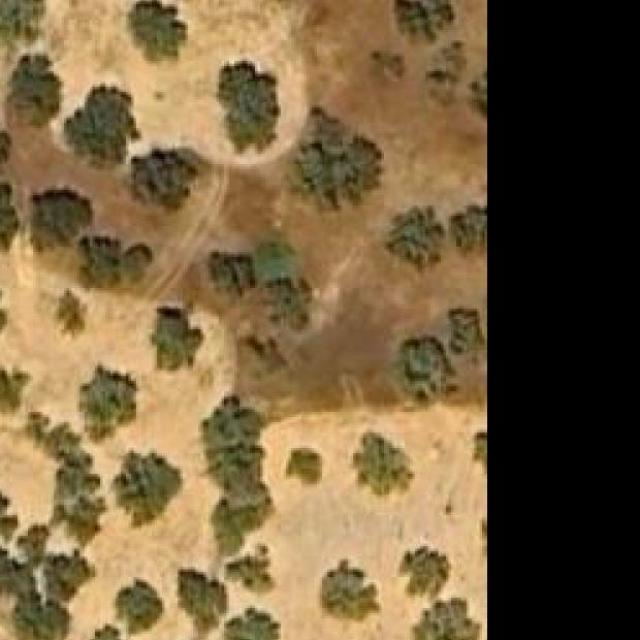Tree: (203, 394, 270, 556), (206, 242, 313, 332), (294, 108, 382, 210), (64, 85, 139, 170), (217, 61, 282, 154), (131, 146, 212, 216), (152, 266, 203, 368), (110, 453, 180, 526), (80, 365, 140, 443), (351, 430, 416, 500), (394, 330, 452, 400), (77, 236, 155, 288), (31, 188, 93, 253), (7, 56, 62, 128), (322, 560, 379, 622), (409, 595, 487, 640), (129, 0, 186, 61), (224, 544, 279, 599), (443, 197, 490, 258), (0, 0, 43, 66), (116, 580, 165, 637), (389, 206, 440, 260), (439, 300, 484, 360), (400, 546, 450, 600), (12, 595, 69, 640), (41, 549, 90, 601), (181, 572, 227, 626), (41, 288, 88, 340), (394, 0, 456, 37), (56, 497, 105, 539), (227, 608, 284, 640), (237, 338, 289, 373), (0, 177, 22, 258), (284, 448, 325, 489), (0, 479, 18, 551), (0, 370, 29, 412), (89, 625, 138, 640), (0, 273, 7, 360), (0, 120, 11, 171)
